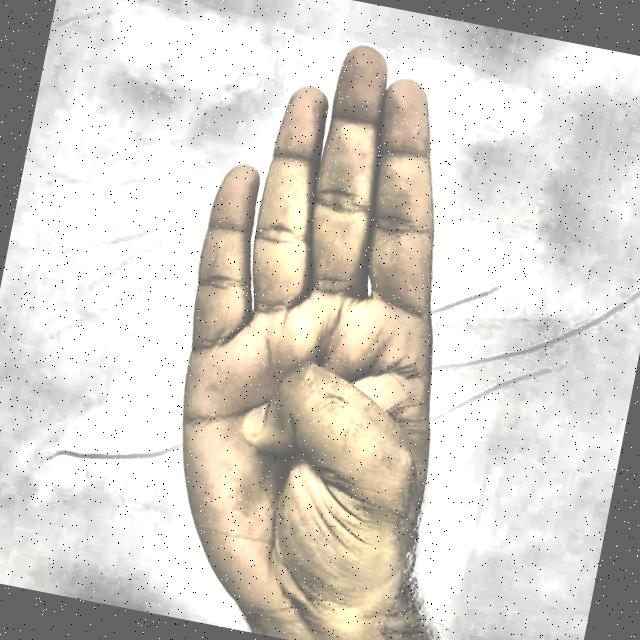Ba: (99, 0, 569, 640)
